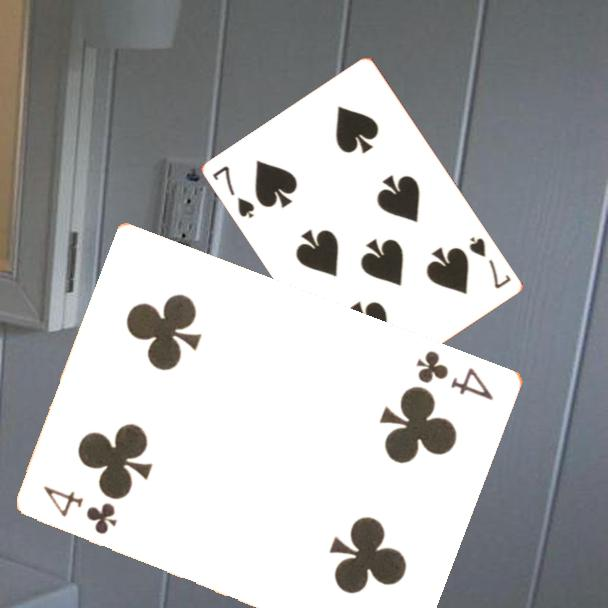c04: (413, 346, 497, 403), (40, 482, 121, 537)
s07: (209, 162, 258, 222), (466, 233, 514, 292)
